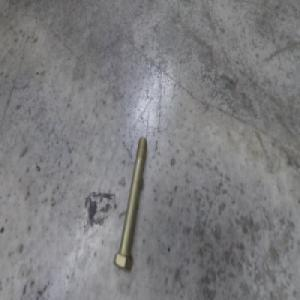Bolt: (113, 134, 147, 272)
